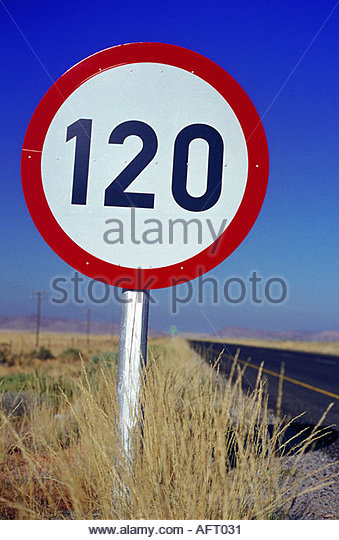Speed_limit_120km: (20, 39, 273, 293)
